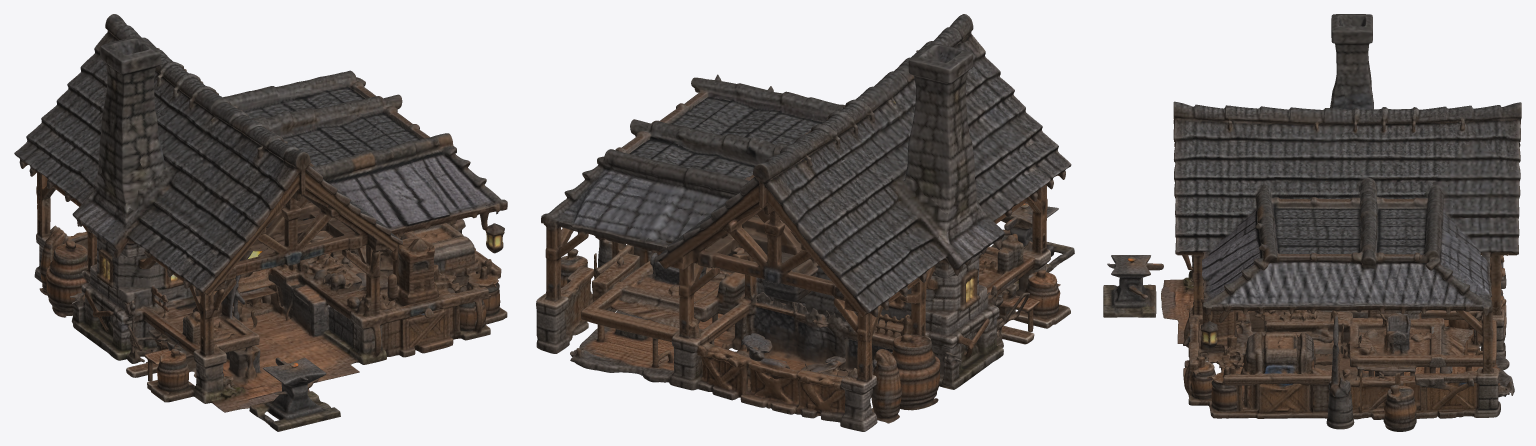
The model's file is Hearthside_Forge.glb.
The picture shows the model from 3 angles, left to right: view 1: azimuth 30°, elevation 25°; view 2: azimuth 150°, elevation 25°; view 3: azimuth 270°, elevation 25°; orthographic projection. The views are drawn at different scales.
Size of the model in its own units: 1.74 by 1.28 by 1.83.
Materials: 1 (1 with a texture image).
